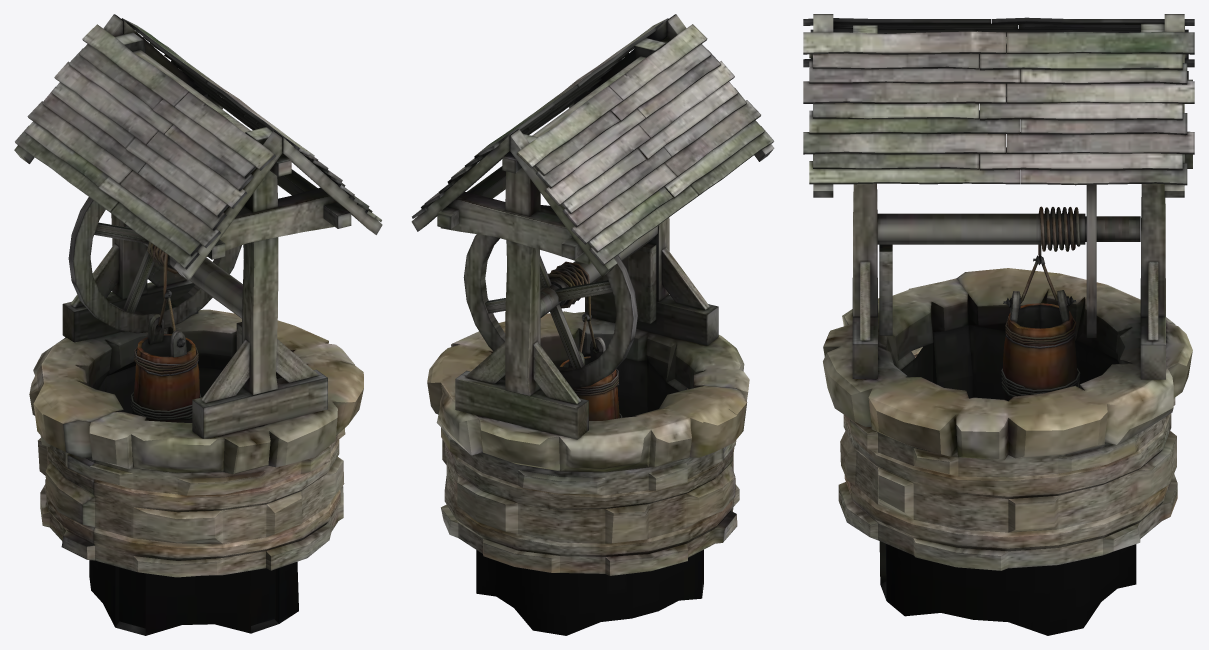
File: t_pozo_viejo.glb
3 renders of one model, left to right at view 1: azimuth 30°, elevation 25°; view 2: azimuth 150°, elevation 25°; view 3: azimuth 270°, elevation 25°, orthographic. The views are drawn at different scales.
Parts seen in each view (by area): view 1: blinn4; view 2: blinn4; view 3: blinn4.
Boxes of the visible parts, <box> form: blinn4: <box>14,14,382,635</box>; blinn4: <box>411,14,774,635</box>; blinn4: <box>803,14,1194,635</box>.
Size of the model in its own units: 2.03 by 3.4 by 2.11.
Materials: 1 (1 with a texture image).
